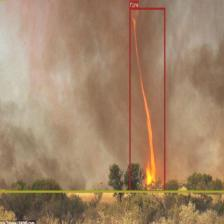fire: (129, 7, 165, 191)
smoke: (0, 0, 224, 192)
